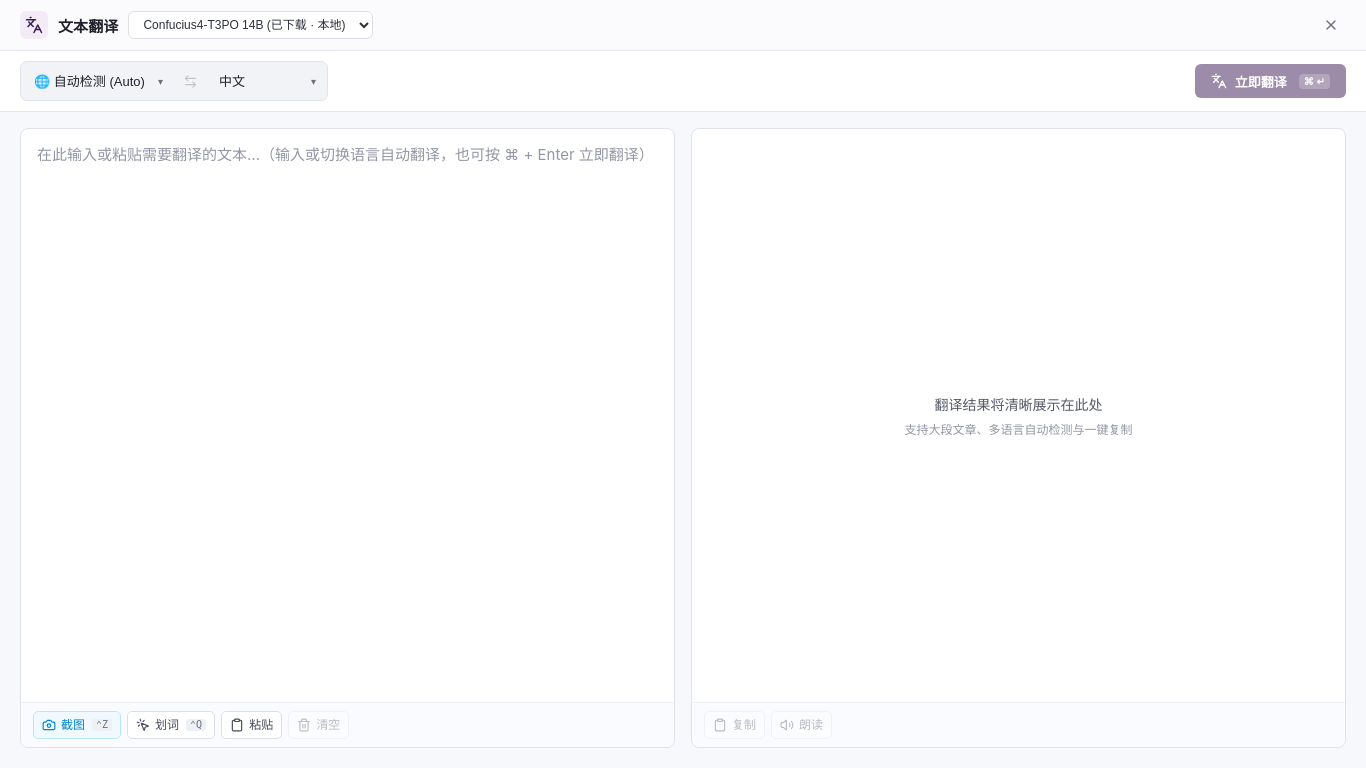
it: TextTranslationView › clears source and translation when clear button clicked
The width and height of the screenshot is (1366, 768).
Type "Hello world" into the text box with placeholder "在此输入或粘贴需要翻译的文本...（输入或切换语言自动翻译，也可按 ⌘ + Enter 立即翻译）" at point(348, 416), box [21,129,674,702]
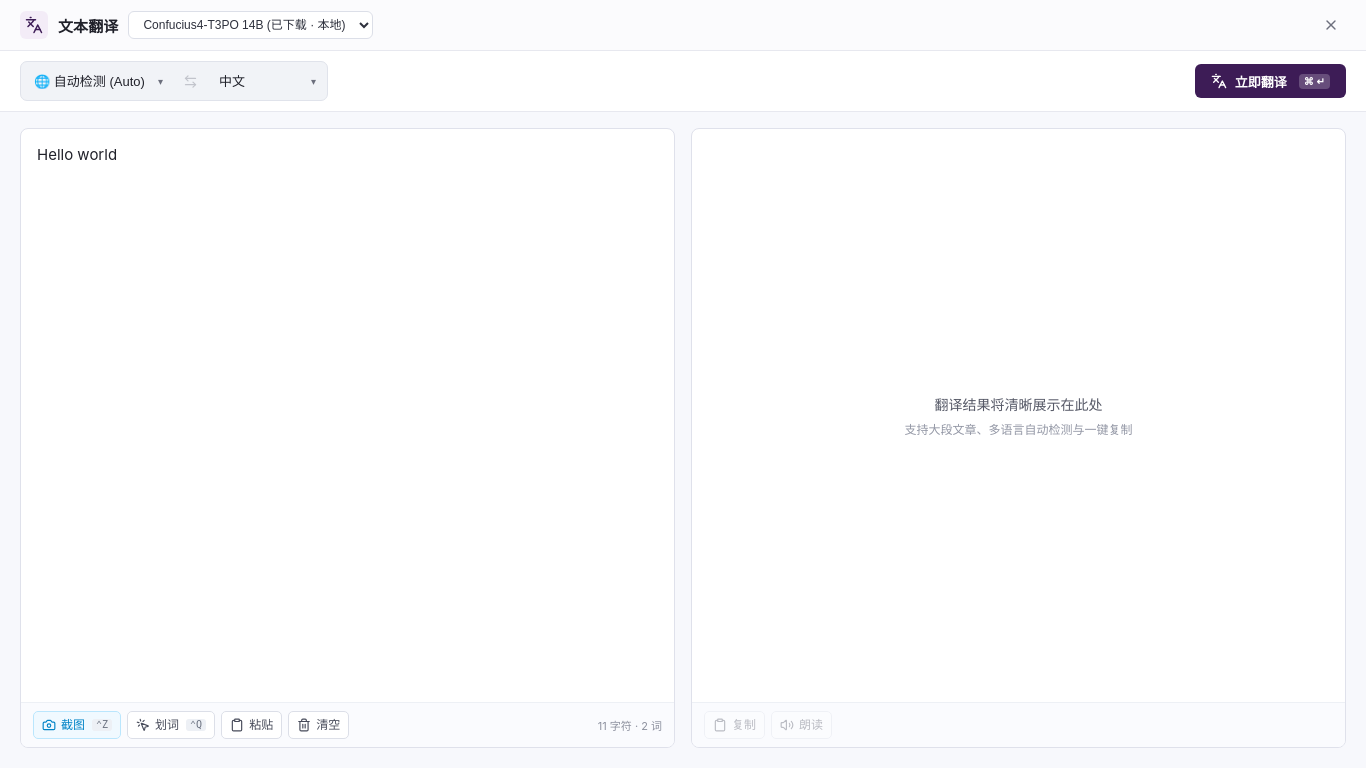
Click the button "清空" at point(319, 725), box [288,711,349,739]
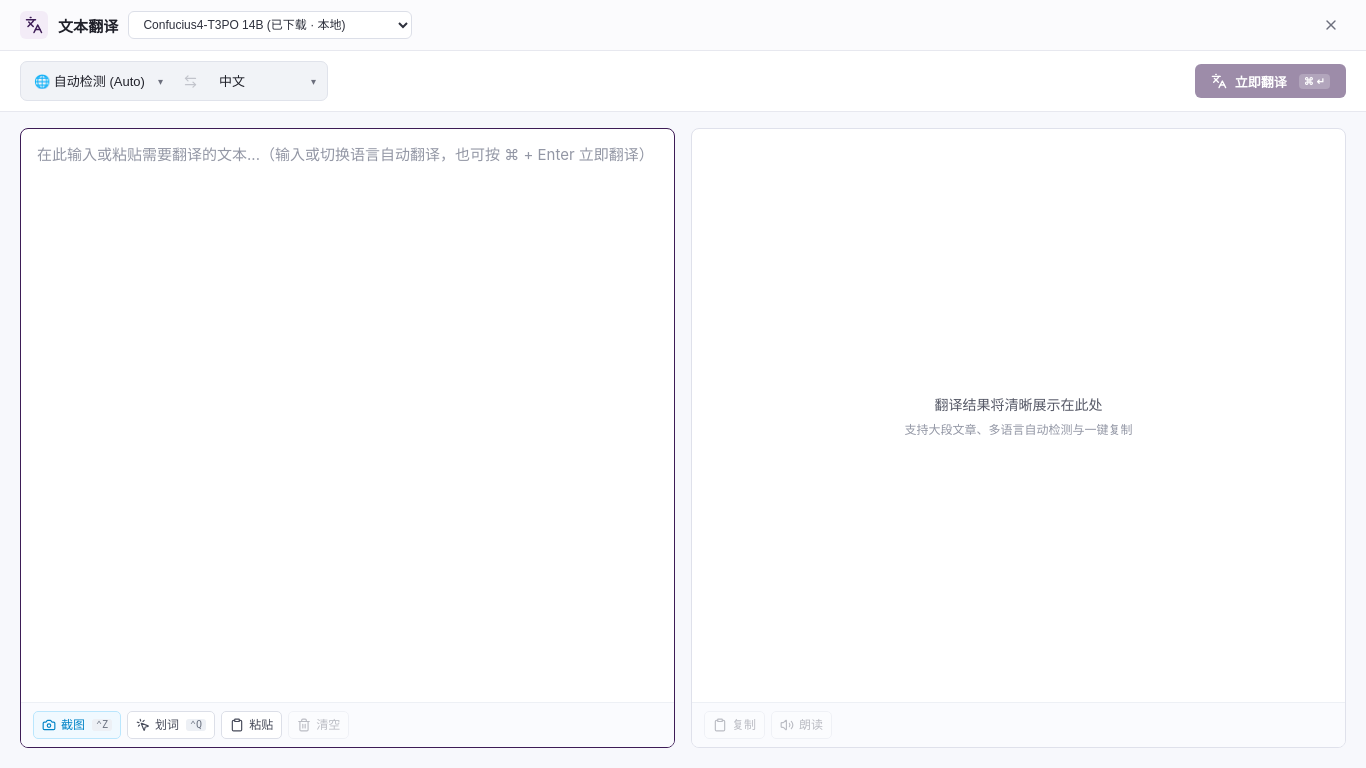
Expected: the text box with placeholder "在此输入或粘贴需要翻译的文本...（输入或切换语言自动翻译，也可按 ⌘ + Enter 立即翻译）" is empty, [21,129,674,702]
